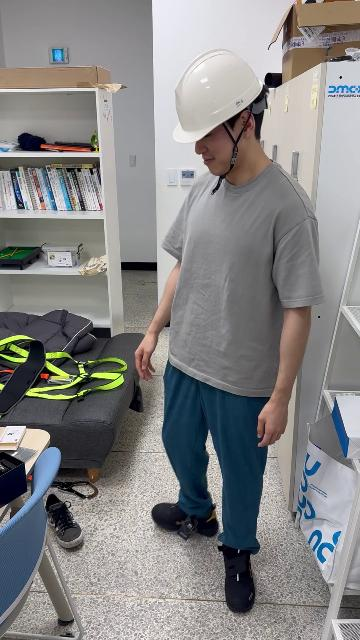helmet_worn: (170, 48, 262, 142)
shoe_not_worn: (44, 493, 84, 548)
shoe_worn: (218, 542, 254, 612), (152, 500, 217, 535)
vest_not_worn: (171, 176, 306, 401)
